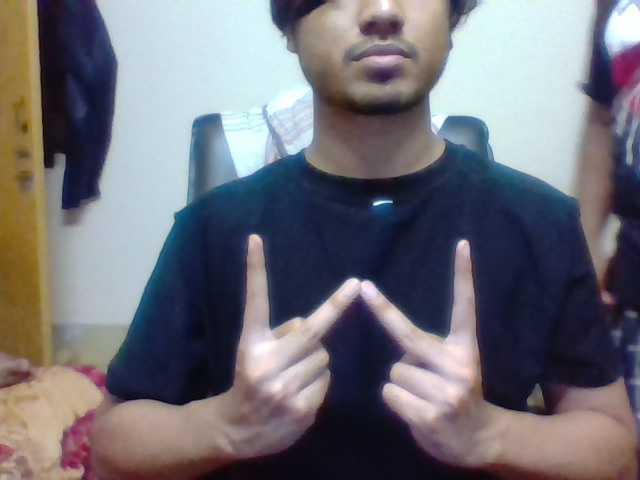W: (235, 226, 486, 351)
